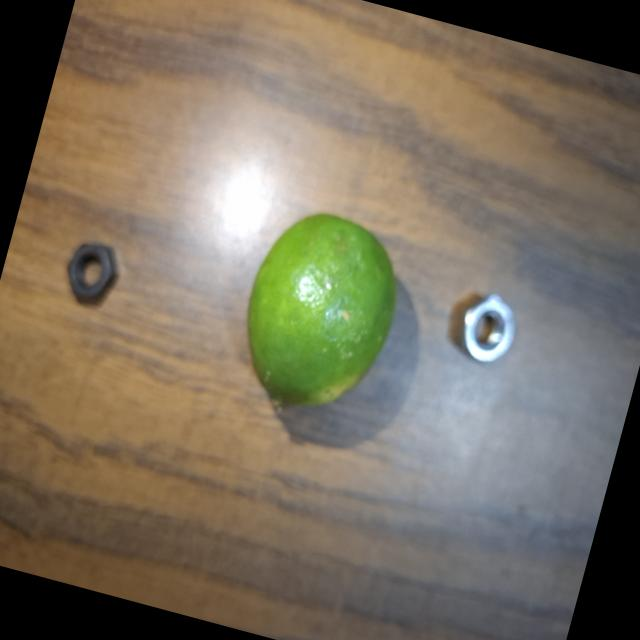limon: (221, 196, 419, 437)
milimetrico: (47, 225, 137, 320)
tuerca: (452, 284, 531, 377)
